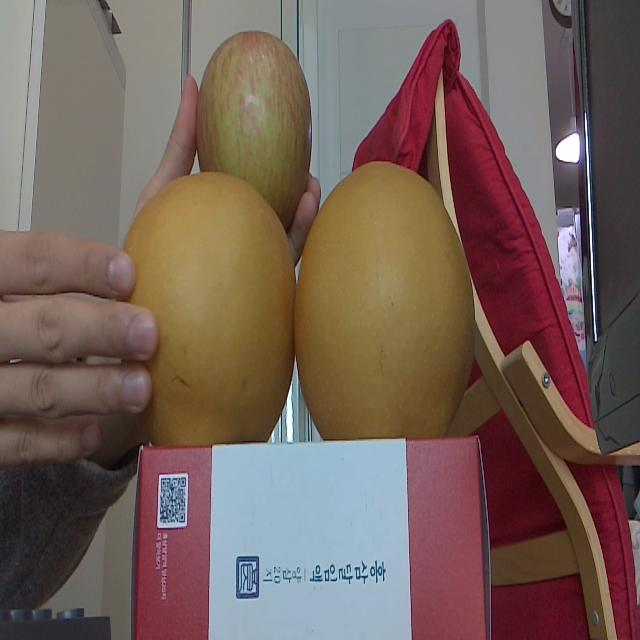apple: (192, 30, 312, 236)
pear: (107, 170, 297, 449), (294, 160, 479, 445)
